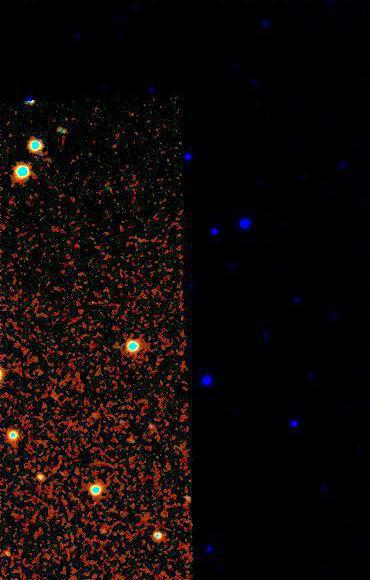star: (84, 517, 114, 547)
